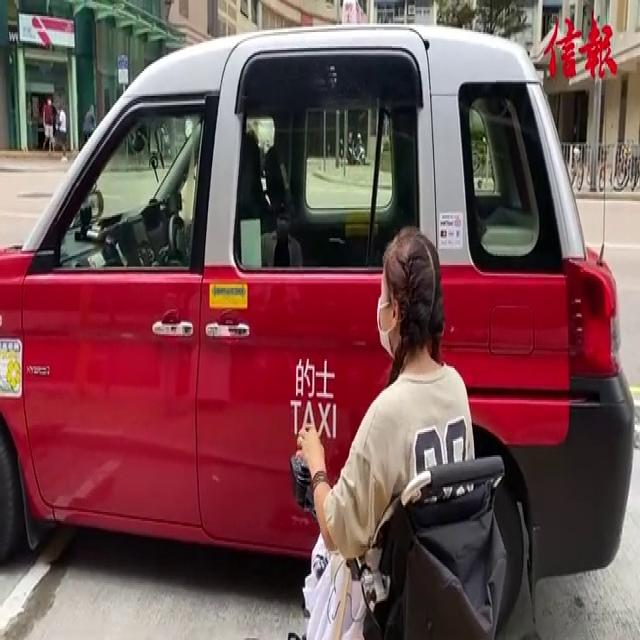wheelchairs: (284, 397, 545, 640)
